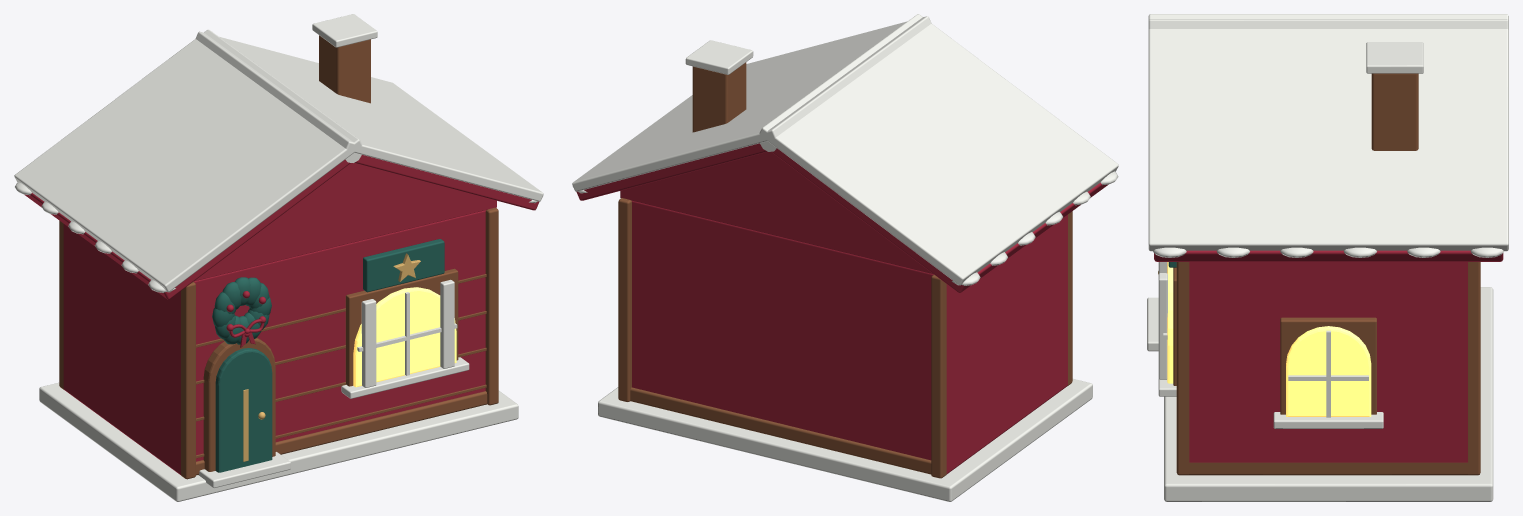
File: christmas-storybook-toy-makers-workshop-7e21f224__18691.glb
3 renders of one model, left to right at view 1: azimuth 30°, elevation 25°; view 2: azimuth 150°, elevation 25°; view 3: azimuth 270°, elevation 25°, orthographic. The views are drawn at different scales.
Parts seen in each view (by area): view 1: cream, berry, oak, pine, light, brass; view 2: berry, cream, oak; view 3: cream, berry, oak, light.
Part boxes in pixels (left/top/right/bottom): cream: left=14, top=14, right=543, bottom=501; berry: left=24, top=155, right=539, bottom=474; oak: left=59, top=35, right=498, bottom=479; pine: left=212, top=239, right=444, bottom=472; light: left=353, top=287, right=456, bottom=387; brass: left=243, top=253, right=420, bottom=461; berry: left=576, top=143, right=1108, bottom=474; cream: left=572, top=14, right=1118, bottom=501; oak: left=618, top=62, right=1072, bottom=478; cream: left=1147, top=14, right=1508, bottom=501; berry: left=1154, top=250, right=1503, bottom=462; oak: left=1173, top=73, right=1480, bottom=475; light: left=1167, top=262, right=1371, bottom=416.
Bounding box in the file's own units: 3.99 × 3.32 × 2.69.
